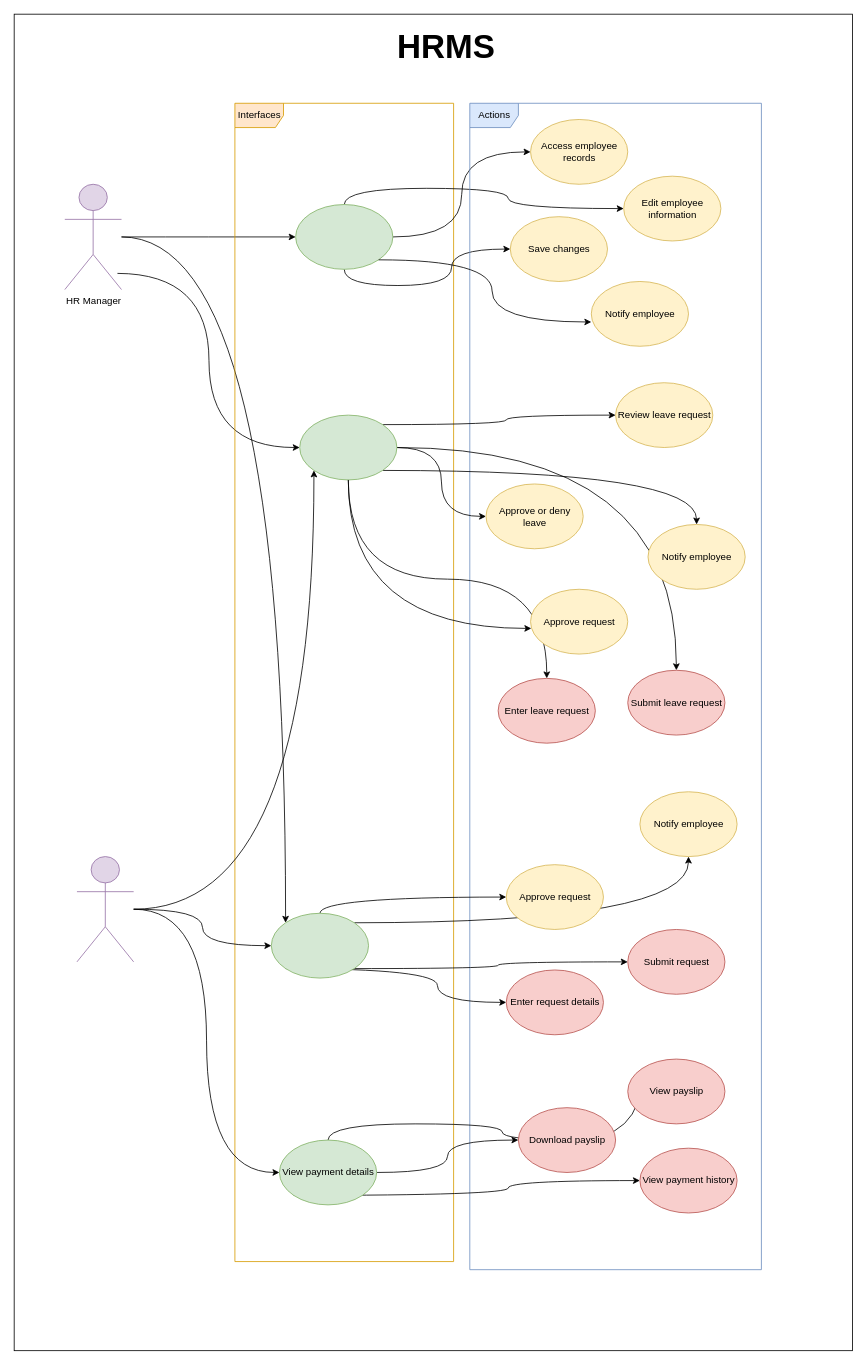
Some shapes in this 867 by 1365 pixel diagram are drawn without their labels. The centre of each missing label's shape, as x and y in pixels:
Employee: the point at 105,909
Request leave: the point at 348,447
Request time off: the point at 320,945
Update employee information: the point at 344,236
